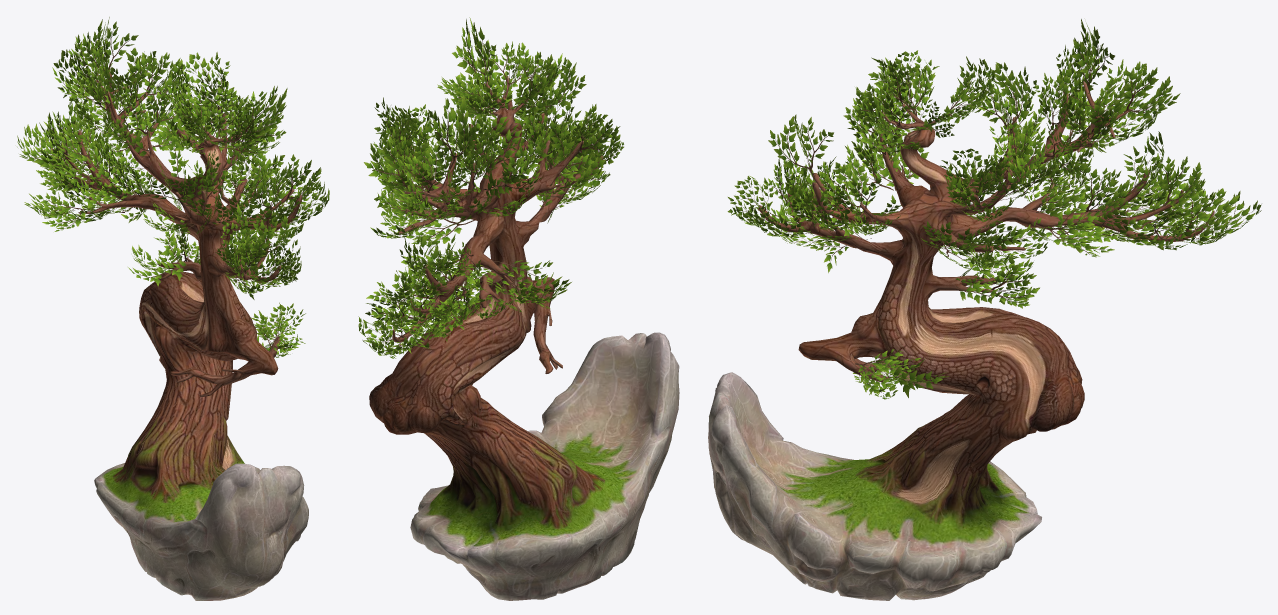
The model's file is jp-bonsai.glb.
3 renders of one model, left to right at view 1: azimuth 30°, elevation 25°; view 2: azimuth 150°, elevation 25°; view 3: azimuth 270°, elevation 25°, orthographic. The views are drawn at different scales.
Parts seen in each view (by area): view 1: object 1, Crown; view 2: object 1, Crown; view 3: object 1, Crown.
Part boxes in pixels (x1=…): object 1: x1=50, y1=72, x2=308, y2=600; Crown: x1=17, y1=17, x2=329, y2=357; object 1: x1=369, y1=76, x2=679, y2=600; Crown: x1=358, y1=17, x2=623, y2=358; object 1: x1=708, y1=81, x2=1214, y2=600; Crown: x1=727, y1=19, x2=1261, y2=399.
Bounding box in the file's own units: 237 × 504 × 459.
Materials: 2 (2 with a texture image).
